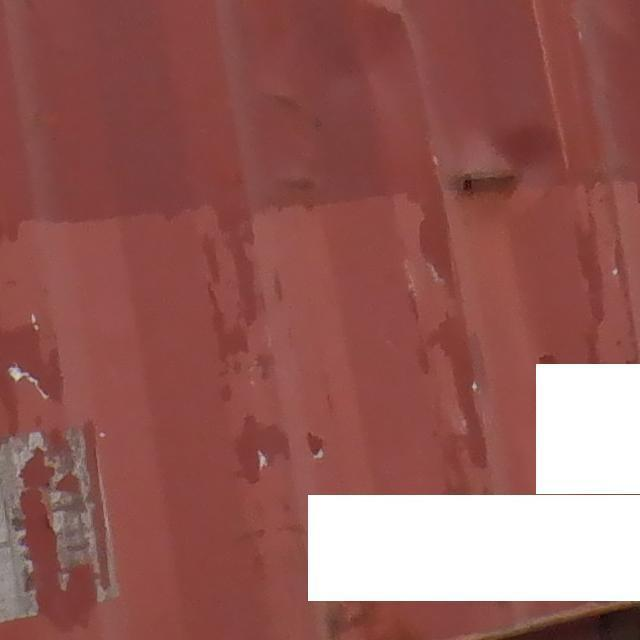dent: (426, 132, 584, 229)
